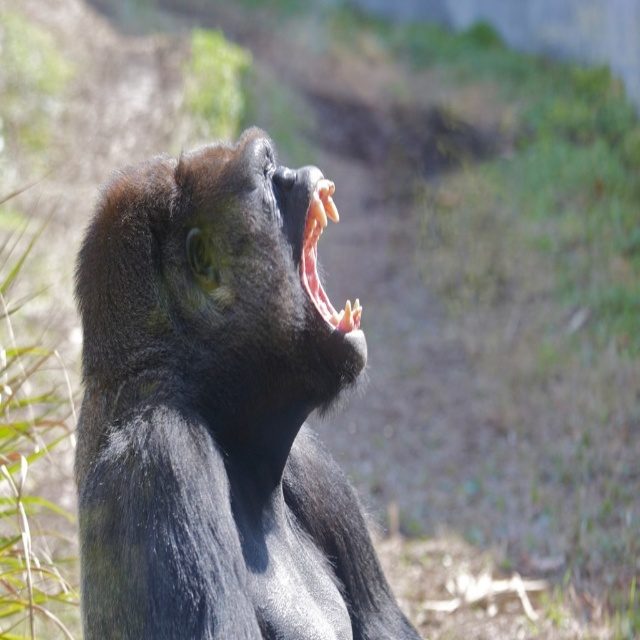Monkey: (74, 127, 419, 639)
